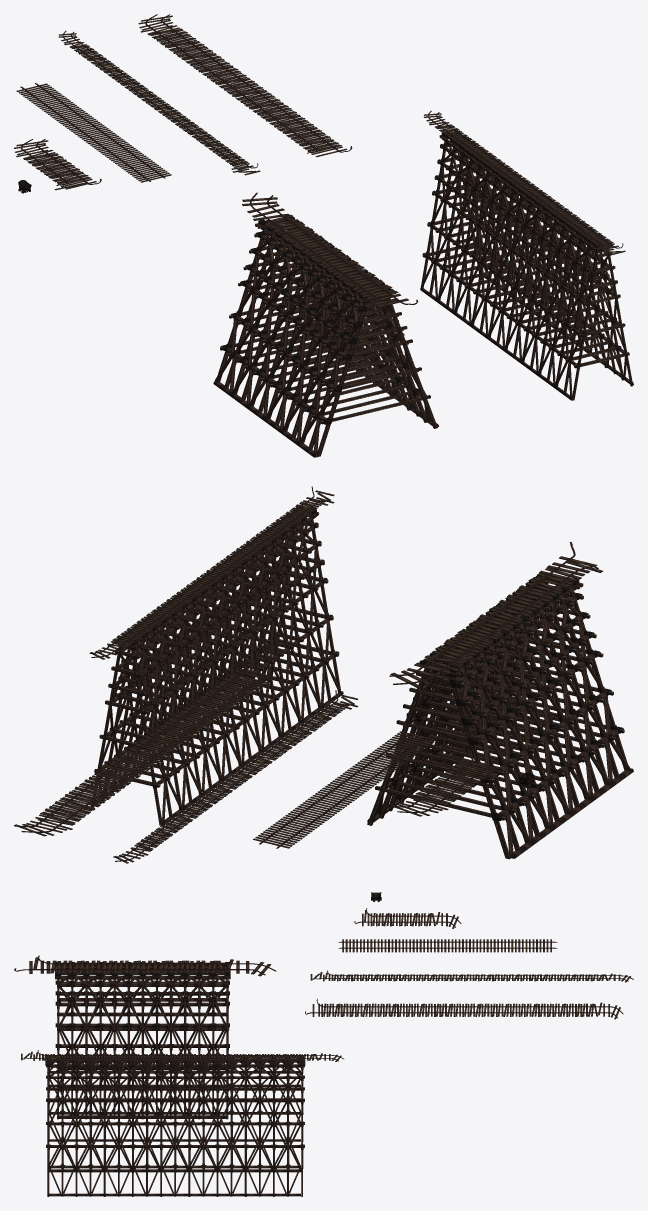
The model's file is EnvObjMD_Mine_B_Rail_Single_Harf_Wide_Spline.FBX.
3 renders of one model, top to bottom at view 1: azimuth 30°, elevation 25°; view 2: azimuth 150°, elevation 25°; view 3: azimuth 270°, elevation 25°, orthographic. The views are drawn at different scales.
Parts seen in each view (by area): view 1: EnvObjMD_Mine_B_Rail_Spline, EnvObjMD_Mine_B_Rail_Wide_Spline, EnvObjMD_Mine_B_Rail_Single_Wide_Spline, EnvObjMD_Mine_B_Rail_Single_Wide_Spline_Rock, EnvObjMD_Mine_B_Rail_Single_Spline, EnvObjMD_Mine_B_Rail_Single_Harf_Wide_Spline; view 2: EnvObjMD_Mine_B_Rail_Wide_Spline, EnvObjMD_Mine_B_Rail_Spline, EnvObjMD_Mine_B_Rail_Single_Wide_Spline, EnvObjMD_Mine_B_Rail_Single_Wide_Spline_Rock, EnvObjMD_Mine_B_Rail_Single_Spline, EnvObjMD_Mine_B_Rail_Single_Harf_Wide_Spline; view 3: EnvObjMD_Mine_B_Rail_Spline, EnvObjMD_Mine_B_Rail_Wide_Spline, EnvObjMD_Mine_B_Rail_Single_Wide_Spline, EnvObjMD_Mine_B_Rail_Single_Wide_Spline_Rock, EnvObjMD_Mine_B_Rail_Single_Spline, EnvObjMD_Mine_B_Rail_Single_Harf_Wide_Spline.
Boxes of the visible parts, <box> form: EnvObjMD_Mine_B_Rail_Spline: <box>420,110,633,400</box>; EnvObjMD_Mine_B_Rail_Wide_Spline: <box>213,192,438,457</box>; EnvObjMD_Mine_B_Rail_Single_Wide_Spline: <box>138,14,352,156</box>; EnvObjMD_Mine_B_Rail_Single_Wide_Spline_Rock: <box>16,83,171,182</box>; EnvObjMD_Mine_B_Rail_Single_Spline: <box>58,30,260,175</box>; EnvObjMD_Mine_B_Rail_Single_Harf_Wide_Spline: <box>14,139,101,190</box>; EnvObjMD_Mine_B_Rail_Wide_Spline: <box>367,542,633,859</box>; EnvObjMD_Mine_B_Rail_Spline: <box>89,486,343,825</box>; EnvObjMD_Mine_B_Rail_Single_Wide_Spline: <box>14,659,275,836</box>; EnvObjMD_Mine_B_Rail_Single_Wide_Spline_Rock: <box>253,731,436,848</box>; EnvObjMD_Mine_B_Rail_Single_Spline: <box>113,690,358,863</box>; EnvObjMD_Mine_B_Rail_Single_Harf_Wide_Spline: <box>389,749,505,816</box>; EnvObjMD_Mine_B_Rail_Spline: <box>21,1050,343,1196</box>; EnvObjMD_Mine_B_Rail_Wide_Spline: <box>14,955,276,1119</box>; EnvObjMD_Mine_B_Rail_Single_Wide_Spline: <box>305,998,623,1019</box>; EnvObjMD_Mine_B_Rail_Single_Wide_Spline_Rock: <box>338,939,557,952</box>; EnvObjMD_Mine_B_Rail_Single_Spline: <box>310,970,633,982</box>; EnvObjMD_Mine_B_Rail_Single_Harf_Wide_Spline: <box>354,908,461,928</box>.
Bounding box in the file's own units: 5745 × 2122 × 8795.
Materials: 2 (2 with a texture image).
